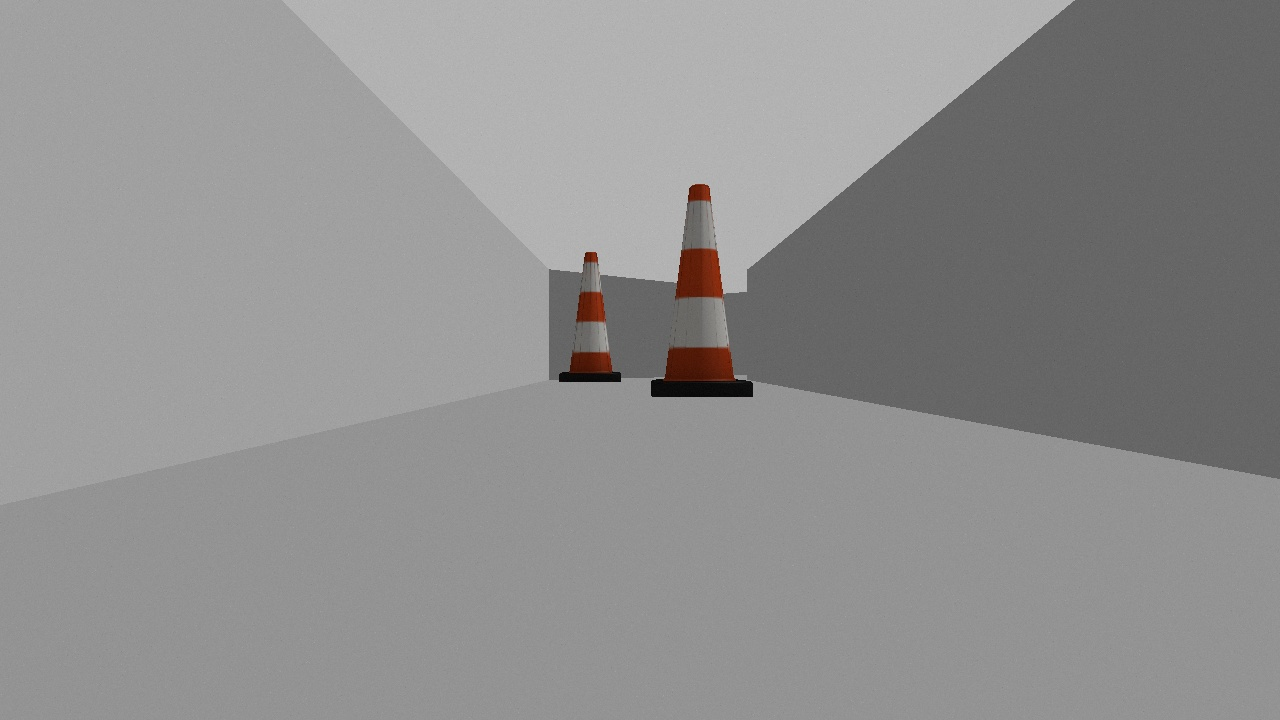barricade: (644, 180, 761, 405), (554, 249, 627, 391)
